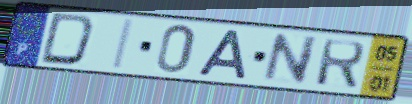0: (153, 22, 198, 76)
A: (196, 28, 250, 81)
D: (37, 11, 98, 68)
I: (109, 17, 137, 72)
N: (259, 32, 321, 86)
R: (313, 37, 368, 91)
